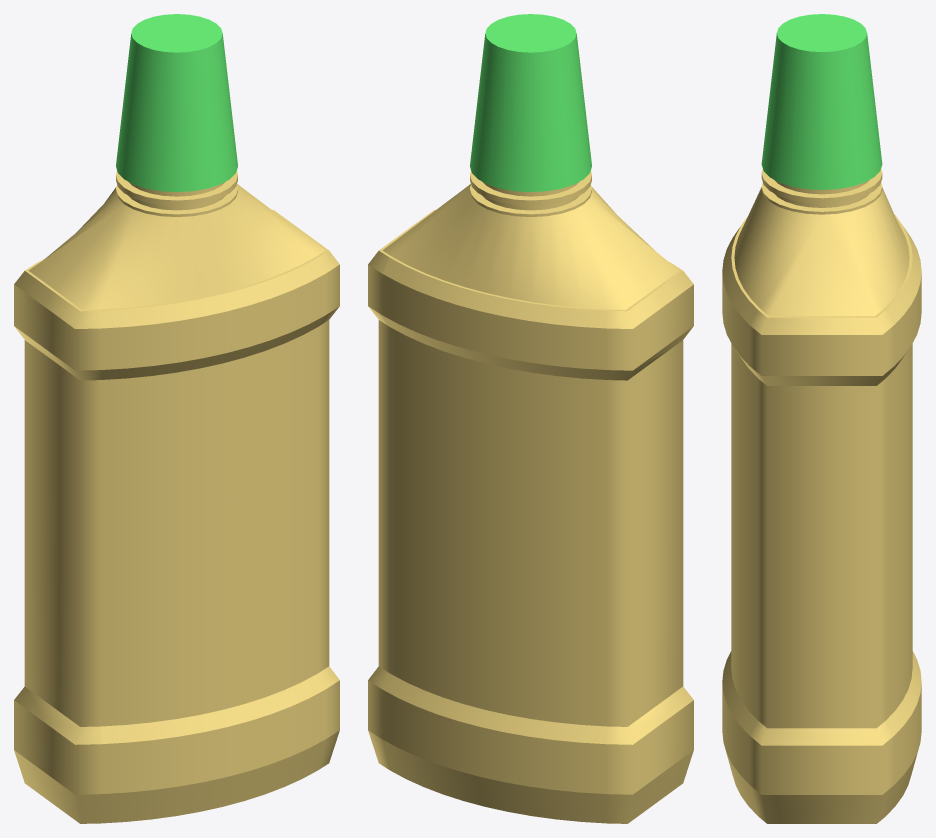
Rendered from Listerine.dae.
3 views of the same model, side by side, from view 1: azimuth 30°, elevation 25°; view 2: azimuth 150°, elevation 25°; view 3: azimuth 270°, elevation 25° (orthographic).
Visible parts, largest first — view 1: group_0 (×3), SketchUp; view 2: group_0 (×3), SketchUp; view 3: group_0 (×5), SketchUp.
Part boxes in pixels (box(x1,y1,x2,y2)): group_0 (×3): box(14, 171, 339, 823); SketchUp: box(116, 14, 237, 192); group_0 (×3): box(368, 171, 693, 823); SketchUp: box(470, 14, 591, 192); group_0 (×5): box(722, 169, 921, 823); SketchUp: box(761, 14, 882, 189).
Bounding box in the file's own units: 3.94 × 2.6 × 10.51.
